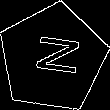N_W: (25, 35, 80, 82)
